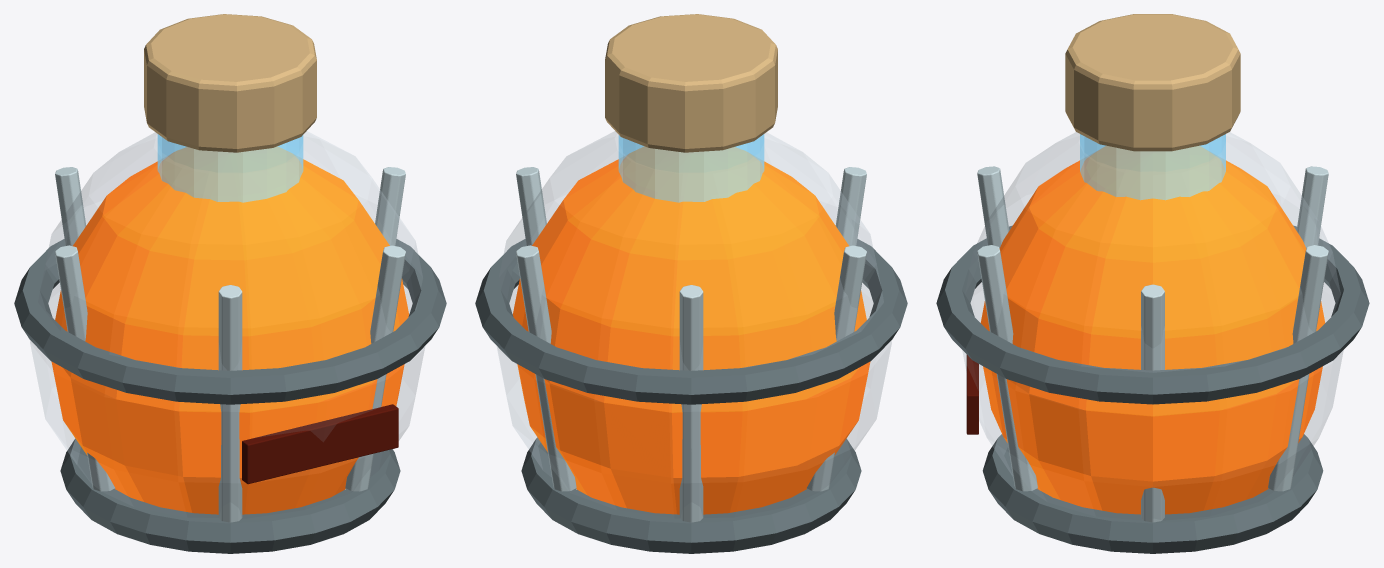
Rendered from firebomb.glb.
3 views of the same model, side by side, from view 1: azimuth 30°, elevation 25°; view 2: azimuth 150°, elevation 25°; view 3: azimuth 270°, elevation 25° (orthographic).
Visible parts, largest first — view 1: thick_glass_shell, amber_resin_liquid, cloth_plug, protective_middle, protective_base, resin_belt, bottle_neck, bottle_cage_bar_4, bottle_cage_bar_5, bottle_cage_bar_3, bottle_cage_bar_2, bottle_cage_bar_0; view 2: thick_glass_shell, amber_resin_liquid, cloth_plug, protective_middle, protective_base, bottle_neck, bottle_cage_bar_2, bottle_cage_bar_1, bottle_cage_bar_3, bottle_cage_bar_4, bottle_cage_bar_0; view 3: thick_glass_shell, amber_resin_liquid, cloth_plug, protective_middle, protective_base, bottle_neck, bottle_cage_bar_1, bottle_cage_bar_5, bottle_cage_bar_0, bottle_cage_bar_2, bottle_cage_bar_4, resin_belt.
Part boxes in pixels (x1,y1,x2,y2): thick_glass_shell: (30,131,424,517); amber_resin_liquid: (51,146,409,514); cloth_plug: (144,14,316,152); protective_middle: (14,239,446,404); protective_base: (60,438,400,553); resin_belt: (242,404,398,484); bottle_neck: (157,134,303,202); bottle_cage_bar_4: (218,285,242,522); bottle_cage_bar_5: (345,245,405,491); bottle_cage_bar_3: (55,245,115,491); bottle_cage_bar_2: (55,167,86,245); bottle_cage_bar_0: (375,167,405,245); thick_glass_shell: (497,131,891,517); amber_resin_liquid: (512,146,870,514); cloth_plug: (605,14,777,152); protective_middle: (475,239,907,404); protective_base: (521,437,861,553); bottle_neck: (618,134,764,202); bottle_cage_bar_2: (679,285,703,522); bottle_cage_bar_1: (516,245,576,491); bottle_cage_bar_3: (806,245,866,491); bottle_cage_bar_4: (835,167,866,245); bottle_cage_bar_0: (516,167,546,245); thick_glass_shell: (962,132,1343,519); amber_resin_liquid: (980,146,1325,514); cloth_plug: (1065,14,1240,151); protective_middle: (936,225,1369,404); protective_base: (982,434,1323,553); bottle_neck: (1080,134,1225,200); bottle_cage_bar_1: (1268,245,1328,491); bottle_cage_bar_5: (977,245,1037,491); bottle_cage_bar_0: (1141,284,1164,522); bottle_cage_bar_2: (1296,166,1328,247); bottle_cage_bar_4: (977,166,1009,247); resin_belt: (966,354,978,434).
Bounding box in the file's own units: 0.89 × 1.1 × 0.89.
